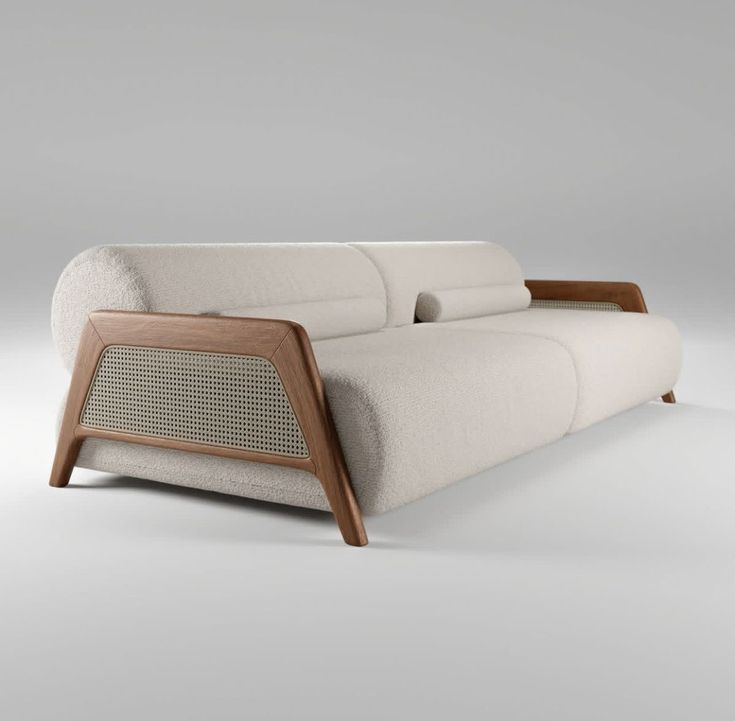3seatersofa: (51, 242, 680, 544)
backrest: (53, 242, 531, 368)
leftarmrest: (528, 281, 646, 312)
leg: (313, 463, 367, 548), (47, 430, 85, 490), (664, 390, 675, 402)
rightarmrest: (64, 312, 326, 473)
seat: (314, 308, 681, 513), (79, 439, 328, 509)
